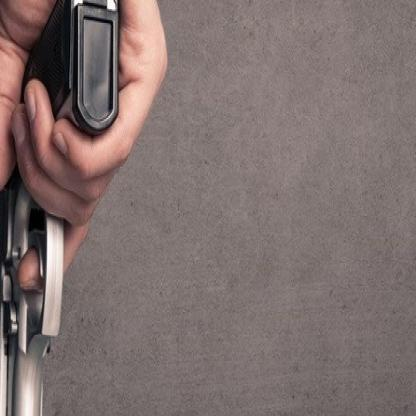gun: (0, 0, 118, 415)
